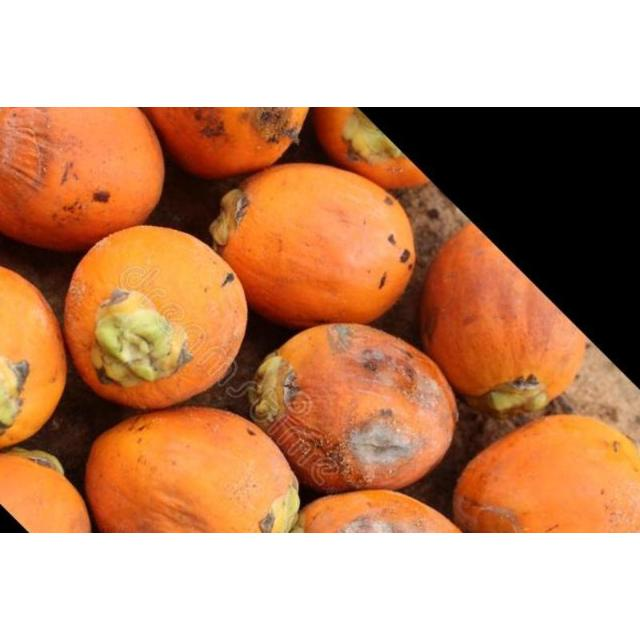good: (250, 322, 456, 492), (63, 227, 243, 409), (214, 165, 413, 328), (421, 225, 584, 415), (85, 408, 297, 532), (2, 108, 162, 252), (454, 416, 638, 532), (1, 263, 69, 451), (136, 109, 310, 180), (312, 108, 426, 192), (2, 450, 92, 530)
